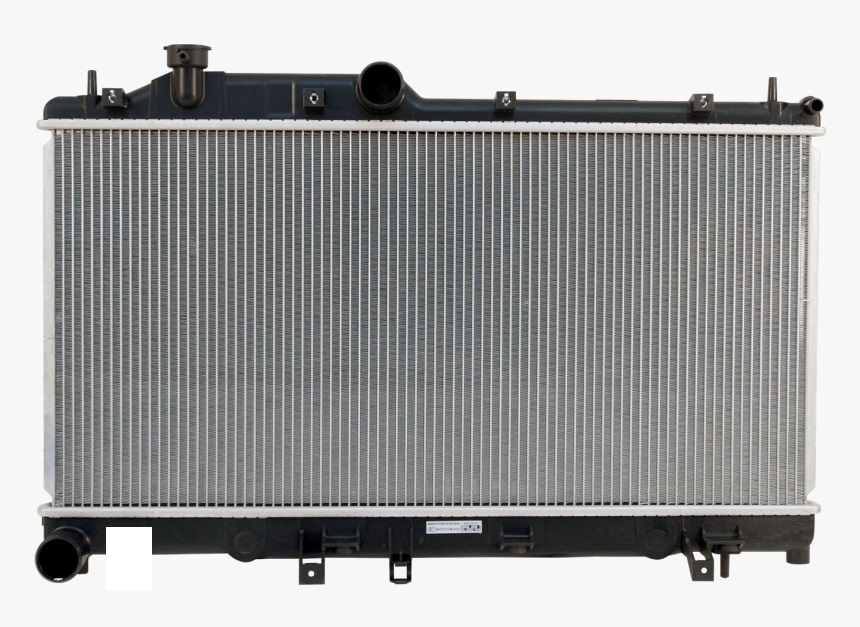c1: (84, 69, 128, 116)
c10: (230, 524, 262, 556)
c11: (297, 524, 363, 585)
c12: (388, 526, 413, 585)
c13: (497, 522, 536, 556)
c14: (684, 525, 746, 582)
c2: (162, 41, 215, 111)
c3: (300, 84, 329, 113)
c4: (355, 58, 407, 112)
c5: (494, 87, 519, 115)
c6: (690, 91, 717, 116)
c7: (766, 73, 827, 122)
c8: (31, 524, 91, 588)
